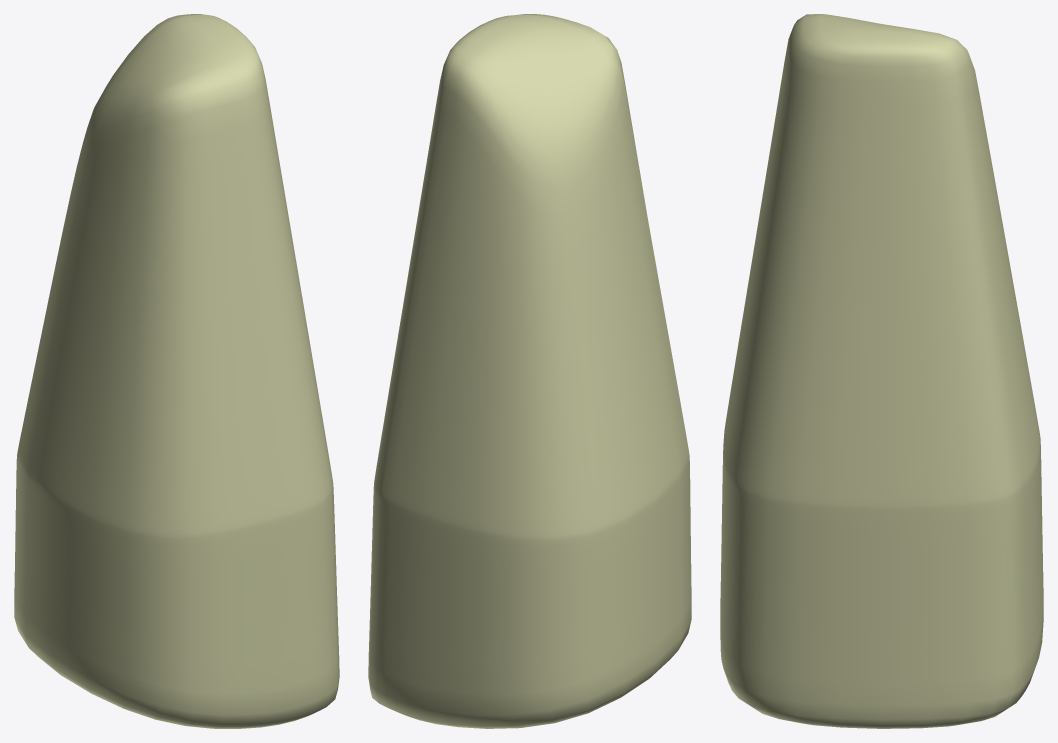
File: StoneTall.glb
3 views of the same model, side by side, from view 1: azimuth 30°, elevation 25°; view 2: azimuth 150°, elevation 25°; view 3: azimuth 270°, elevation 25° (orthographic).
Visible parts, largest first — view 1: StoneTall; view 2: StoneTall; view 3: StoneTall.
Part boxes in pixels (x1,y1,x2,y2): StoneTall: [14, 14, 339, 728]; StoneTall: [368, 14, 691, 728]; StoneTall: [720, 14, 1043, 728].
Bounding box in the file's own units: 1.98 × 4.99 × 2.22.
